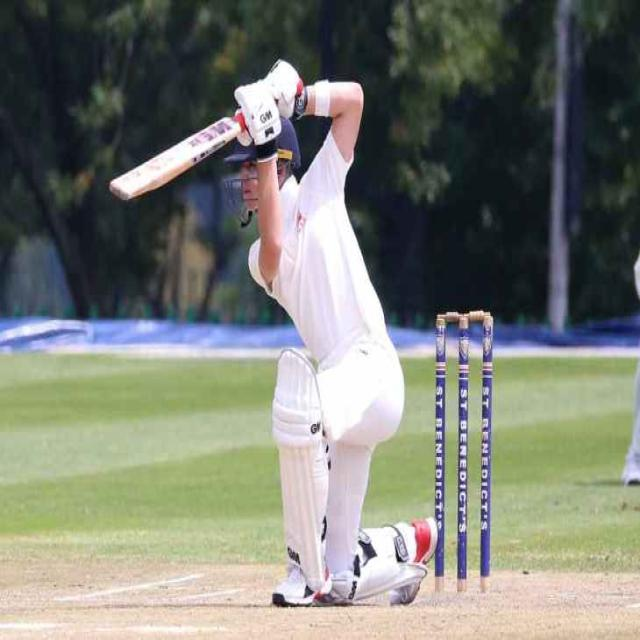stump: (431, 309, 494, 600)
